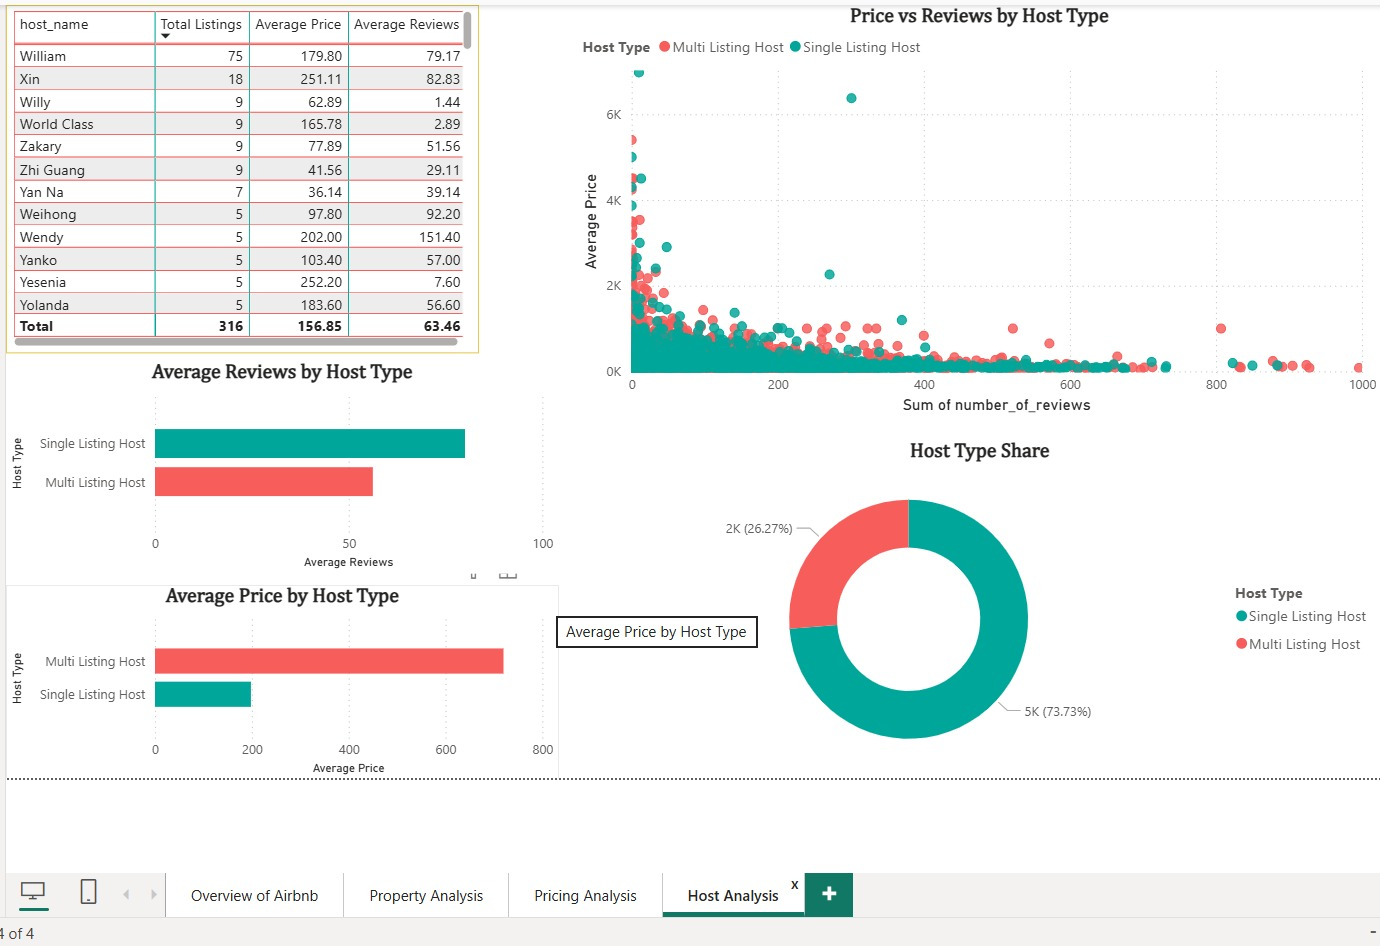

Layout of this report page (visuals, bound fields, positions):
{"tool":"powerbi","page":{"name":"Host Analysis","canvas":[1280,720],"ordinal":3},"visuals":[{"type":"donutChart","title":"Host Type Share","fields":{"Category":["Airbnb_data.Host Type"],"Y":["Airbnb_data.Total Hosts"]},"box":[531.4,404.6,748.9,315.5],"z":0},{"type":"clusteredBarChart","title":"Average Price by Host Type","fields":{"Y":["Airbnb_data.Average Price"],"Category":["Airbnb_data.Host Type"]},"box":[0,539.3,514.1,181.5],"z":1000},{"type":"clusteredBarChart","title":"Average Reviews by Host Type","fields":{"Y":["Airbnb_data.Average Reviews"],"Category":["Airbnb_data.Host Type"]},"box":[0,331.4,514.1,197.8],"z":2000},{"type":"tableEx","fields":{"Values":["Airbnb_data.host_name","Airbnb_data.Total Listings","Airbnb_data.Average Price","Airbnb_data.Average Reviews"]},"box":[0,0,439.8,323.8],"z":3000},{"type":"scatterChart","title":"Price vs Reviews by Host Type","fields":{"X":["Sum(Airbnb_data.number_of_reviews)"],"Y":["Airbnb_data.Average Price"],"Series":["Airbnb_data.Host Type"],"Category":["Airbnb_data.id"]},"box":[531.8,0,748.2,384.5],"z":4000}]}

Visuals, with their boxes on the page's 1280x720 design canvas (x1, y1, x2, y2). These are canvas units, not pixel positions in the 1380x946 screenshot, which may show the page scaled, cropped or inside an application window:
"Host Type Share" donutChart: bbox(531, 405, 1280, 720)
"Average Price by Host Type" clusteredBarChart: bbox(0, 539, 514, 721)
"Average Reviews by Host Type" clusteredBarChart: bbox(0, 331, 514, 529)
tableEx - Airbnb_data.host_name x Airbnb_data.Total Listings: bbox(0, 0, 440, 324)
"Price vs Reviews by Host Type" scatterChart: bbox(532, 0, 1280, 384)
